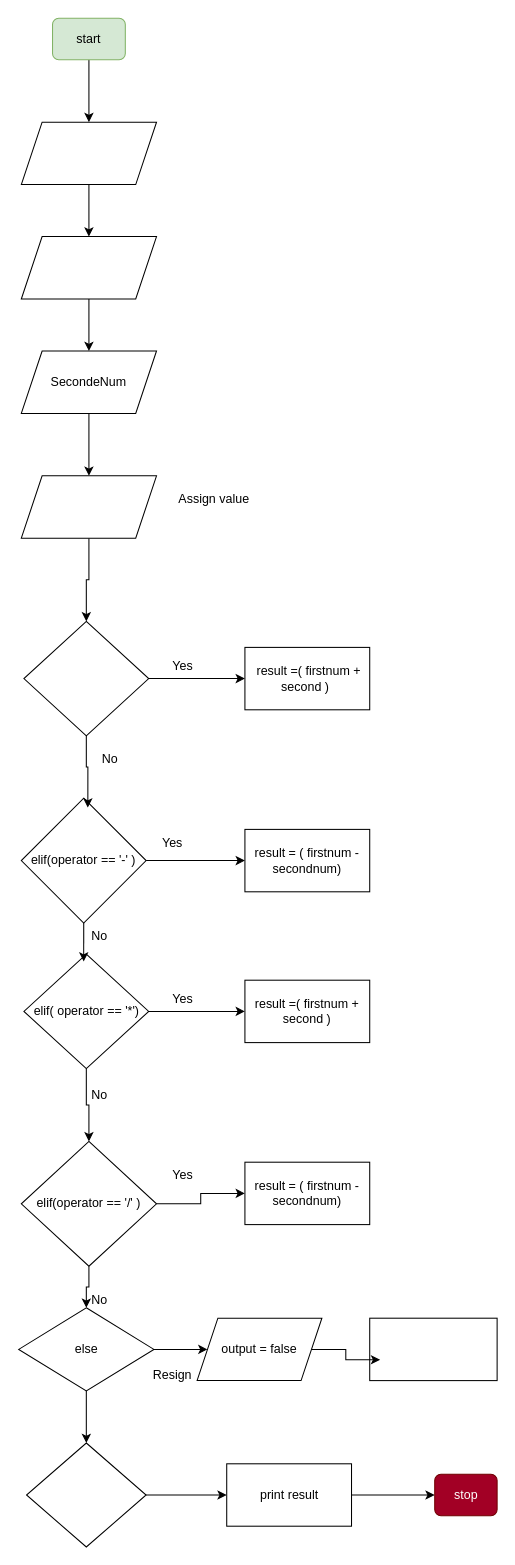
The diagram is 515 pixels wide and 1565 high, and some of its shapes have lost their labels. The shapes that lost their labels are listed below. From the top down, each one's box as (x1, y1, x2, y2) in pixels, then its label:
(20, 121, 157, 185): First Num
(20, 236, 157, 299): Operator
(20, 475, 157, 538): output =true
(23, 620, 149, 736): if( operator == '+')
(369, 1317, 497, 1381): Print ('Wrong Operator)
(25, 1442, 146, 1547): if(output == true)
